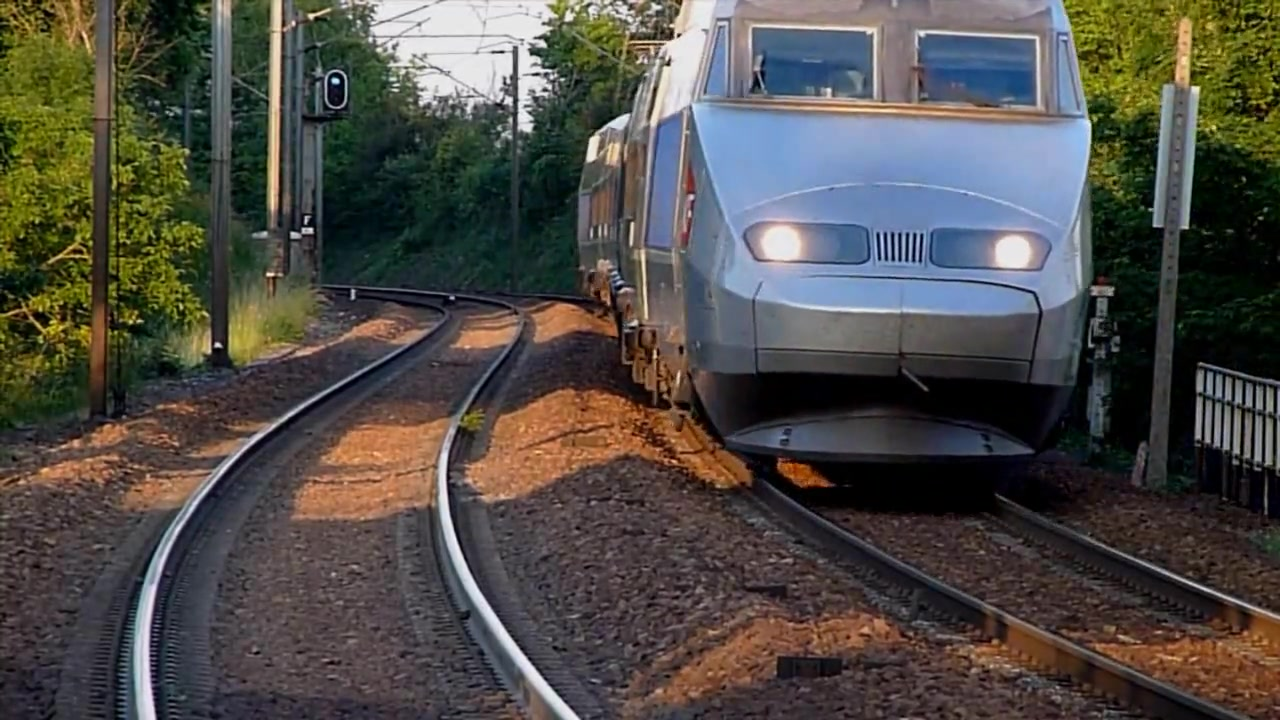train: (576, 1, 1099, 479)
